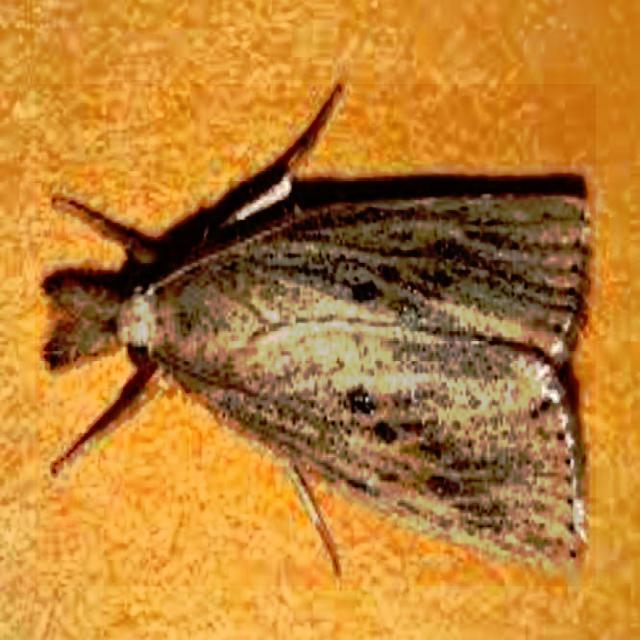stem-borer: (35, 84, 596, 586)
